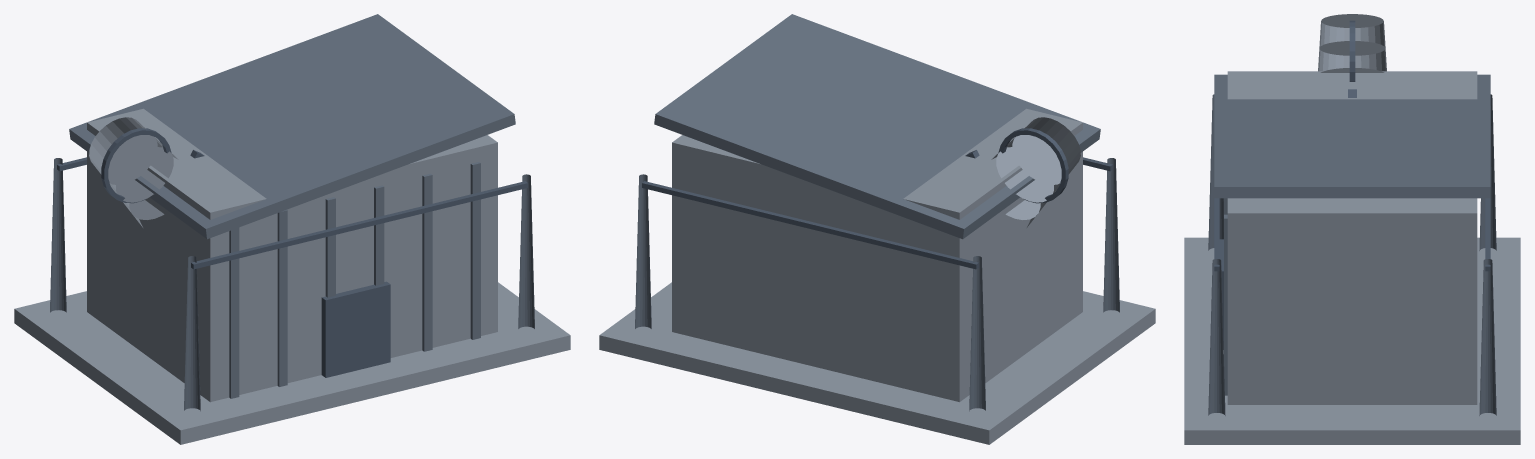
Rendered from tumauini_powerhouse.glb.
3 views of the same model, side by side, from view 1: azimuth 30°, elevation 25°; view 2: azimuth 150°, elevation 25°; view 3: azimuth 270°, elevation 25° (orthographic).
Parts seen in each view (by area): view 1: TurbineHall_Shell, Switchyard_Platform, Penstock_Pipe; view 2: TurbineHall_Shell, Switchyard_Platform, Penstock_Pipe; view 3: TurbineHall_Shell, Switchyard_Platform, Penstock_Pipe.
Boxes of the visible parts, left/top/right/bottom form: TurbineHall_Shell: left=69, top=14, right=515, bottom=402; Switchyard_Platform: left=14, top=157, right=570, bottom=444; Penstock_Pipe: left=89, top=117, right=204, bottom=227; TurbineHall_Shell: left=654, top=14, right=1100, bottom=402; Switchyard_Platform: left=599, top=157, right=1155, bottom=444; Penstock_Pipe: left=965, top=117, right=1080, bottom=227; TurbineHall_Shell: left=1214, top=71, right=1490, bottom=404; Switchyard_Platform: left=1184, top=94, right=1520, bottom=444; Penstock_Pipe: left=1318, top=14, right=1386, bottom=97.
Bounding box in the file's own units: 8.47 × 5.83 × 6.2.
